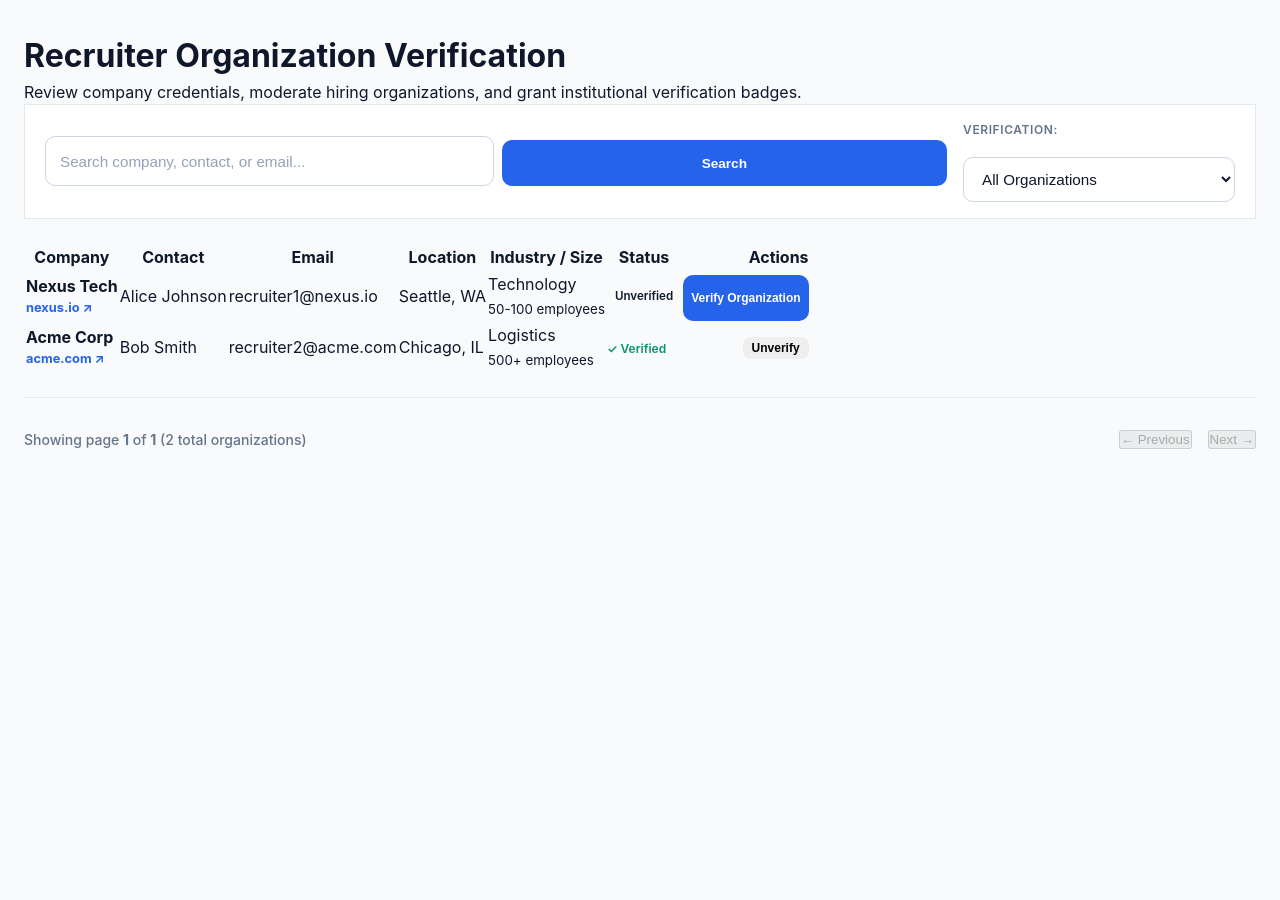
Test: AdminRecruitersPage Component › opens verification modal and updates recruiter status on success
Expected: the text "Nexus Tech" is shown, [26,276,118,296]
Click the button with test id "toggle-verify-1-btn" at (746, 298), box [683,275,809,321]
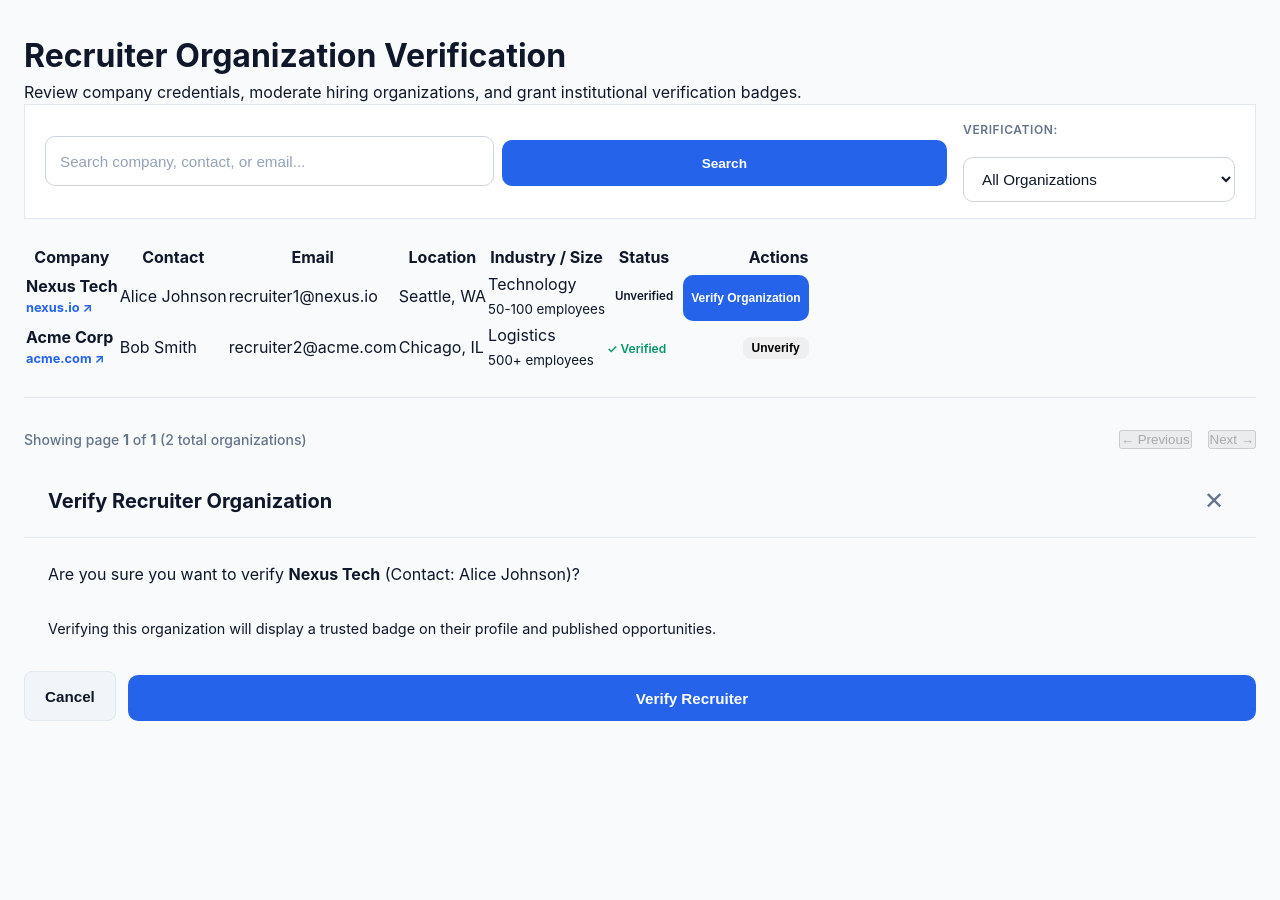
Now the dialog with test id "recruiter-verification-modal" is shown, box [24,465,1256,721]
Click the button with test id "confirm-verification-btn" at (692, 698), box [128,675,1256,721]
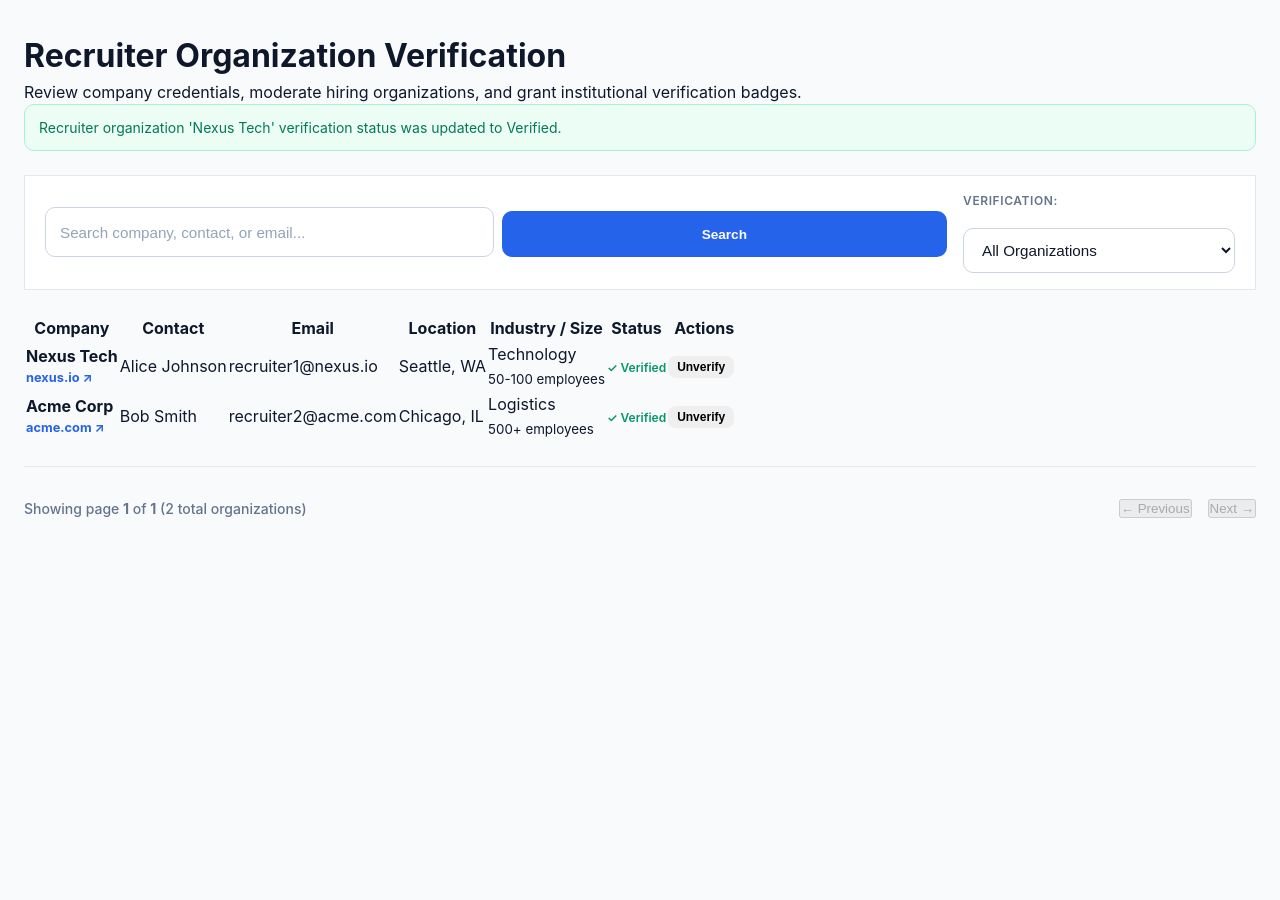
Now the text "Recruiter organization 'Nexus Tech' verification status was updated to Verified" is shown, box [39,119,562,136]
